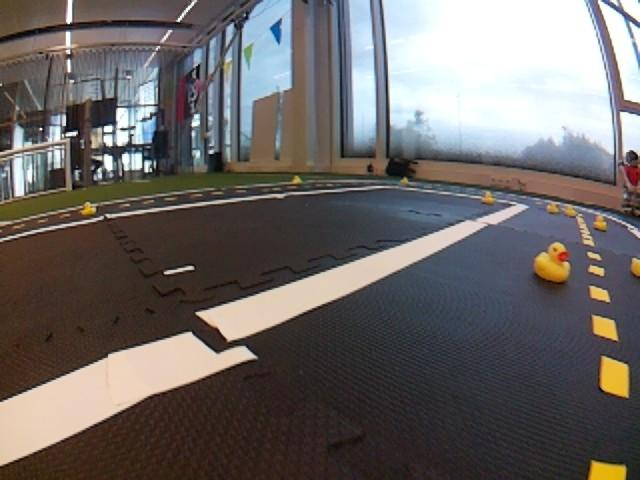Duckies: (532, 239, 573, 284), (631, 247, 640, 279), (592, 215, 608, 232), (79, 201, 97, 215), (563, 203, 579, 218), (481, 191, 496, 205), (546, 200, 561, 214), (291, 174, 303, 185), (398, 176, 409, 185)
